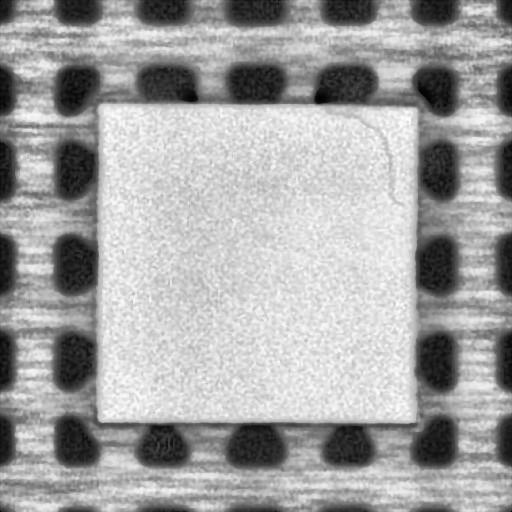DIE_CRACK: (325, 104, 401, 203)
